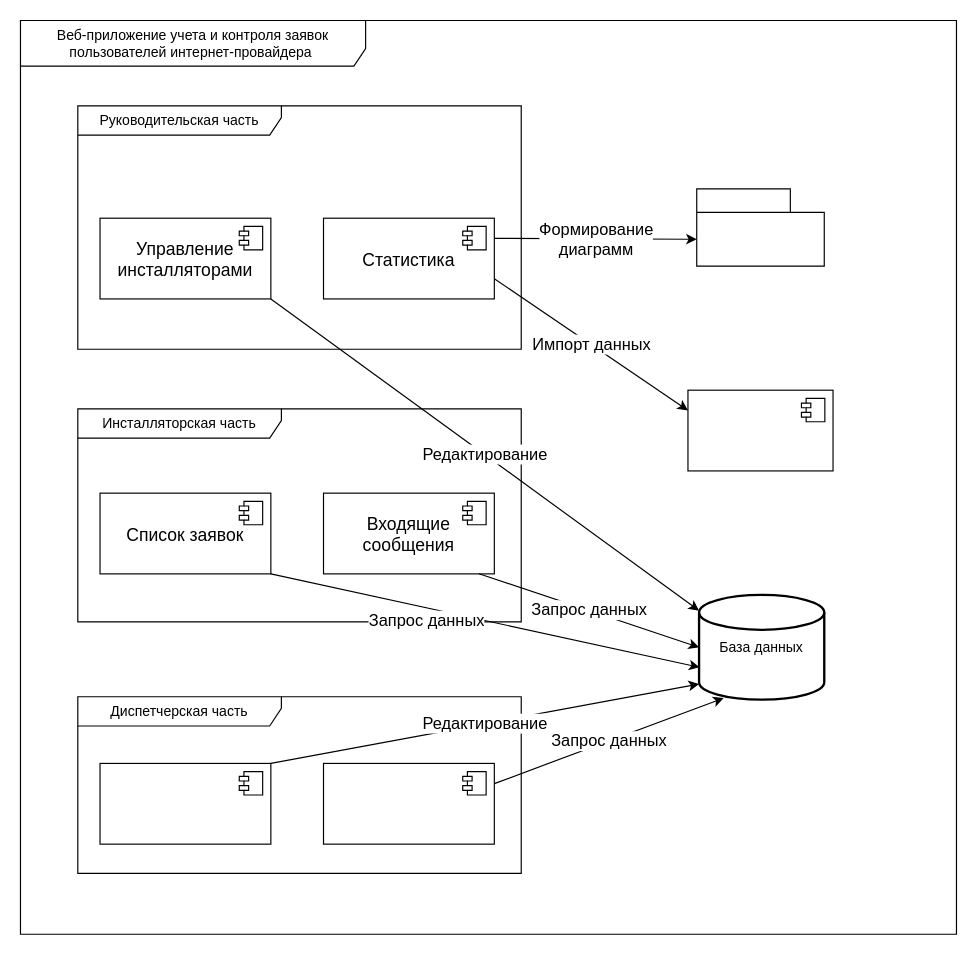
The diagram is 977 pixels wide and 955 high, and some of its shapes have lost their labels. Here are the shapes that lost their labels. From the top down, the centre of each, then its label:
[760,227]: Chart.js
[760,430]: MS Excel
[185,803]: Управление заявками
[408,803]: Список тарифов
